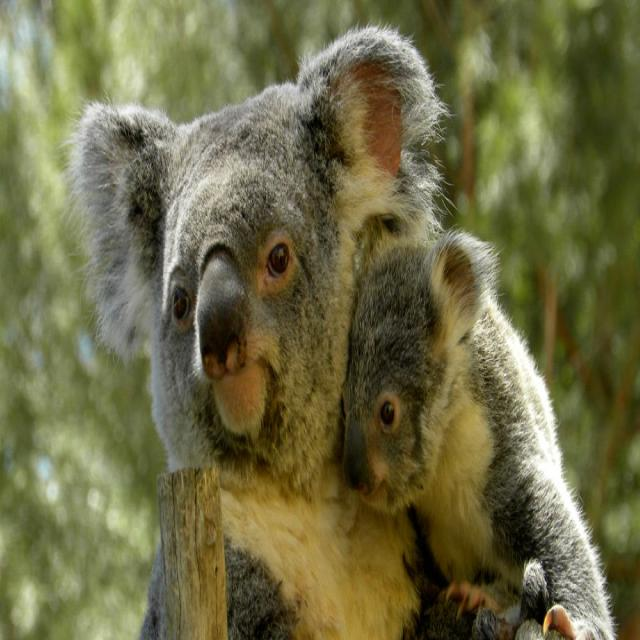koala: (69, 26, 472, 639), (345, 231, 614, 639)
